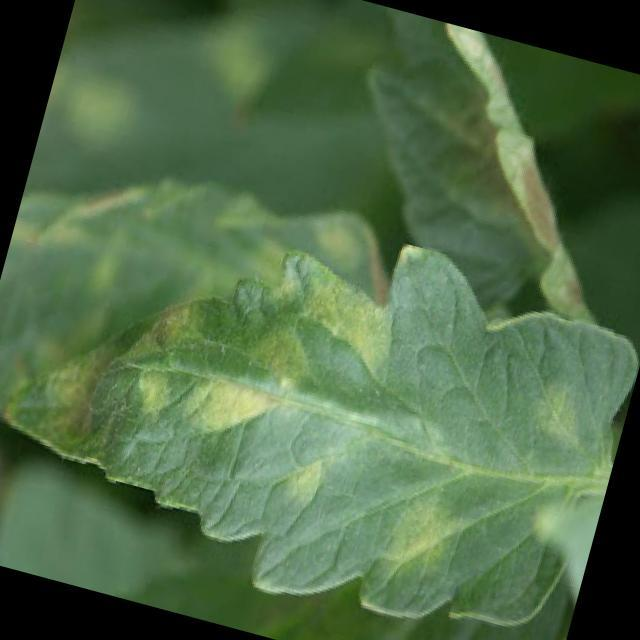Leaf Mold: (1, 129, 640, 640)
